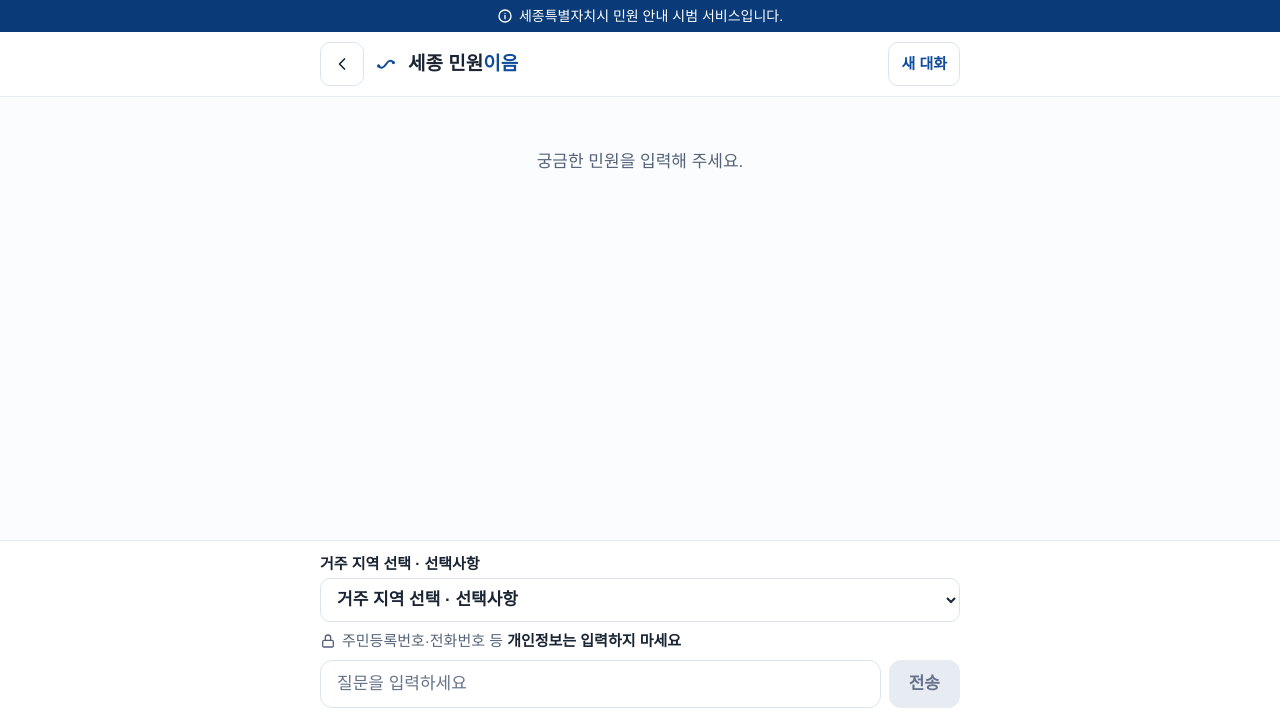
Test: citizen chat screen › promotes a region-name follow-up option to selected_region and resends the original question
The image size is (1280, 720).
In the field named "질문 입력": [600, 684] box [320,660,881,708], type "대형폐기물은 언제 내놓나요?"
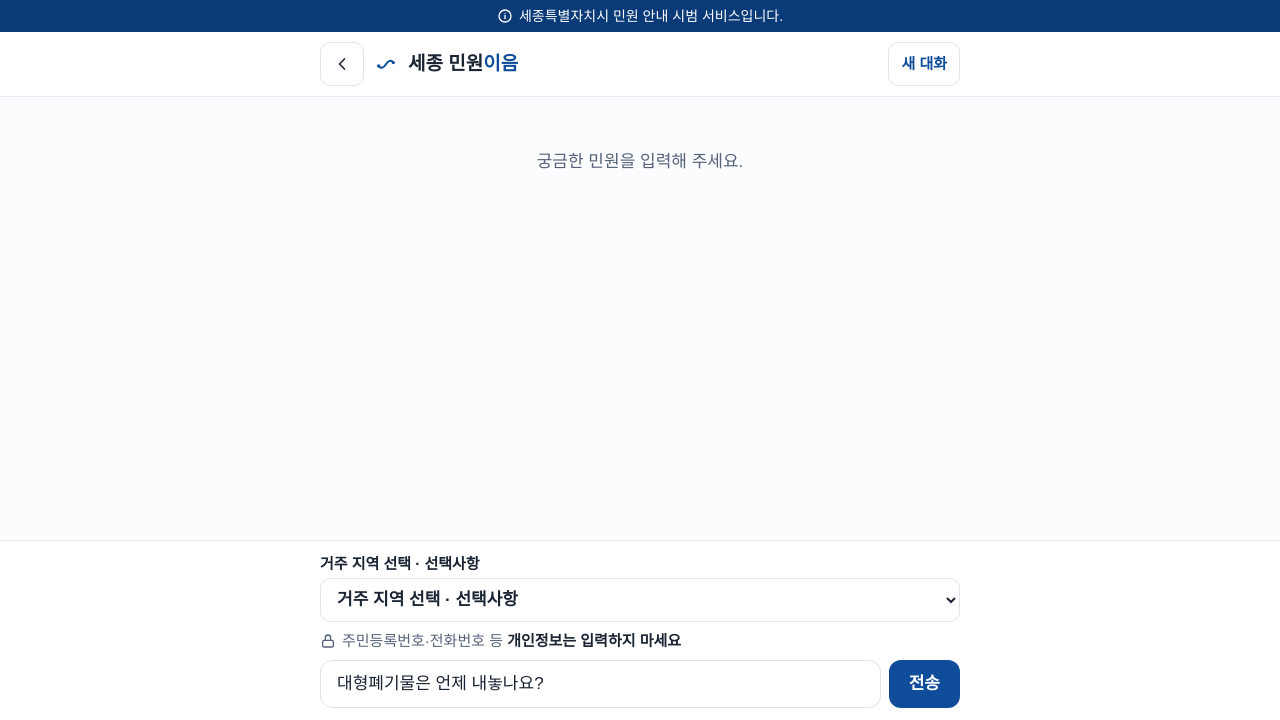
Click the button "전송": [924, 684] box [889,660,960,708]
(page scrolled)
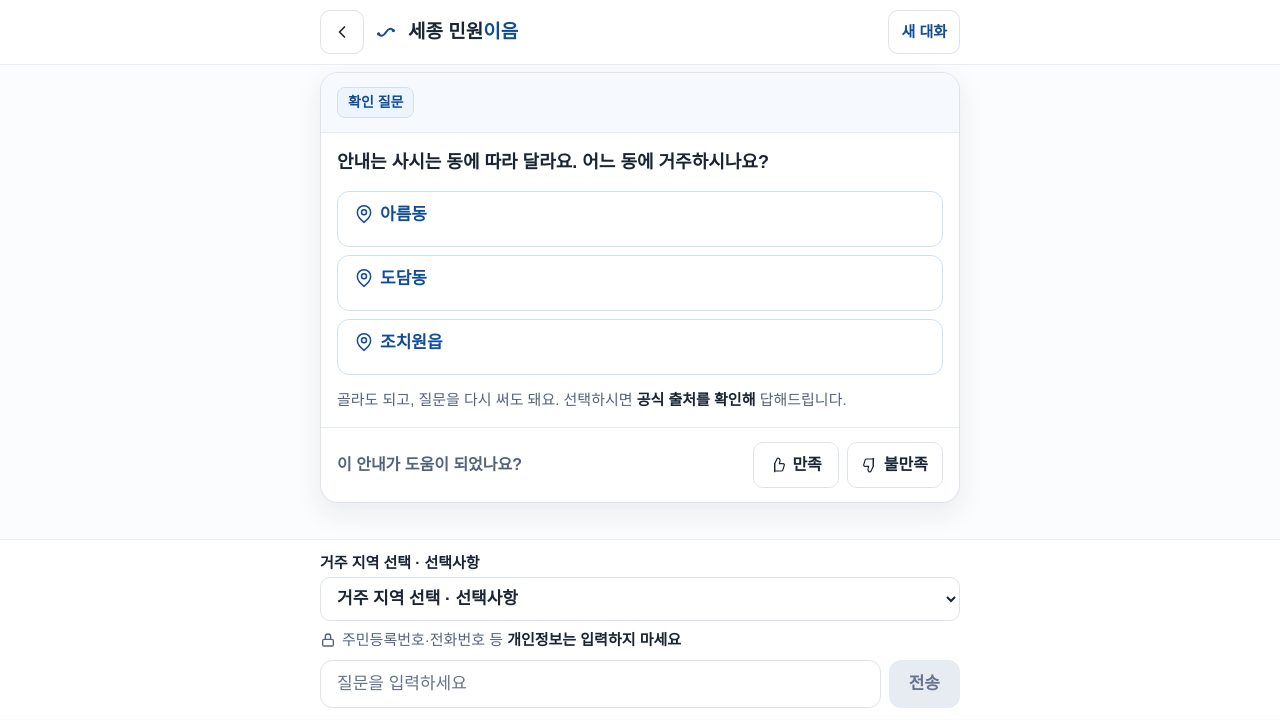
Click the button "아름동": [403, 214] box [337,190,943,246]
(page scrolled)
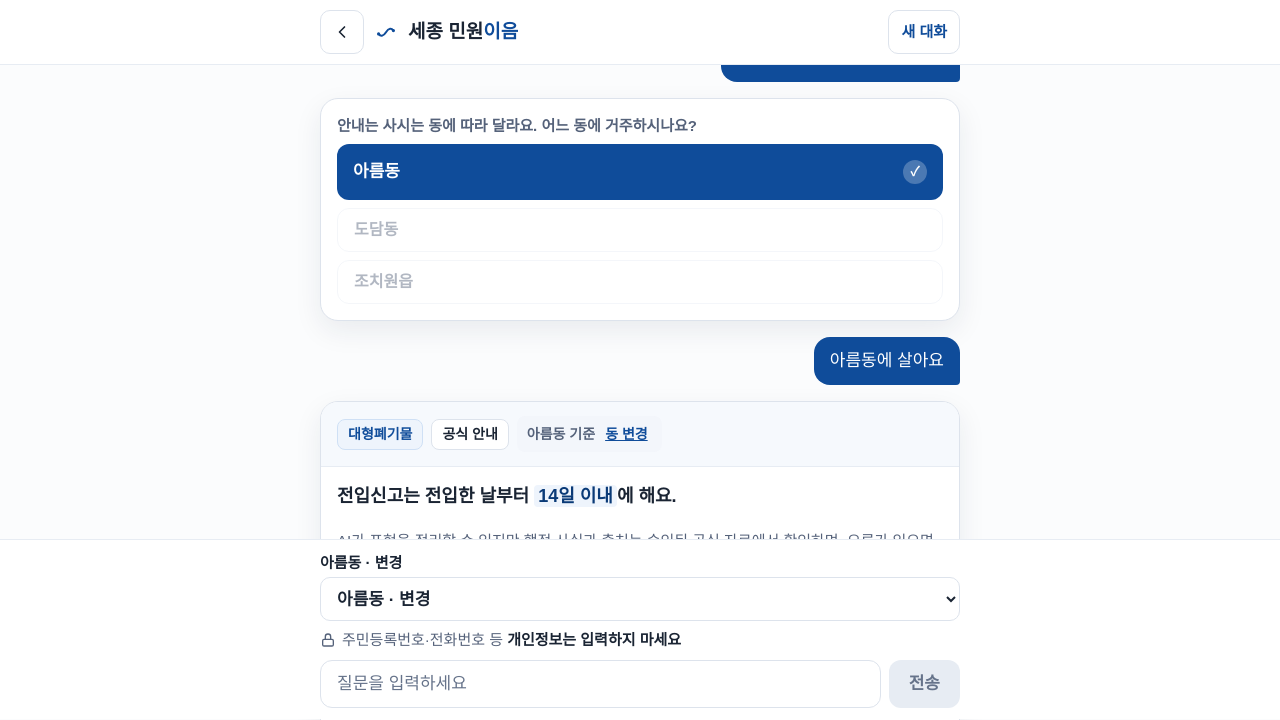
Now the text "아름동에 살아요" is shown, box [814,337,960,385]
